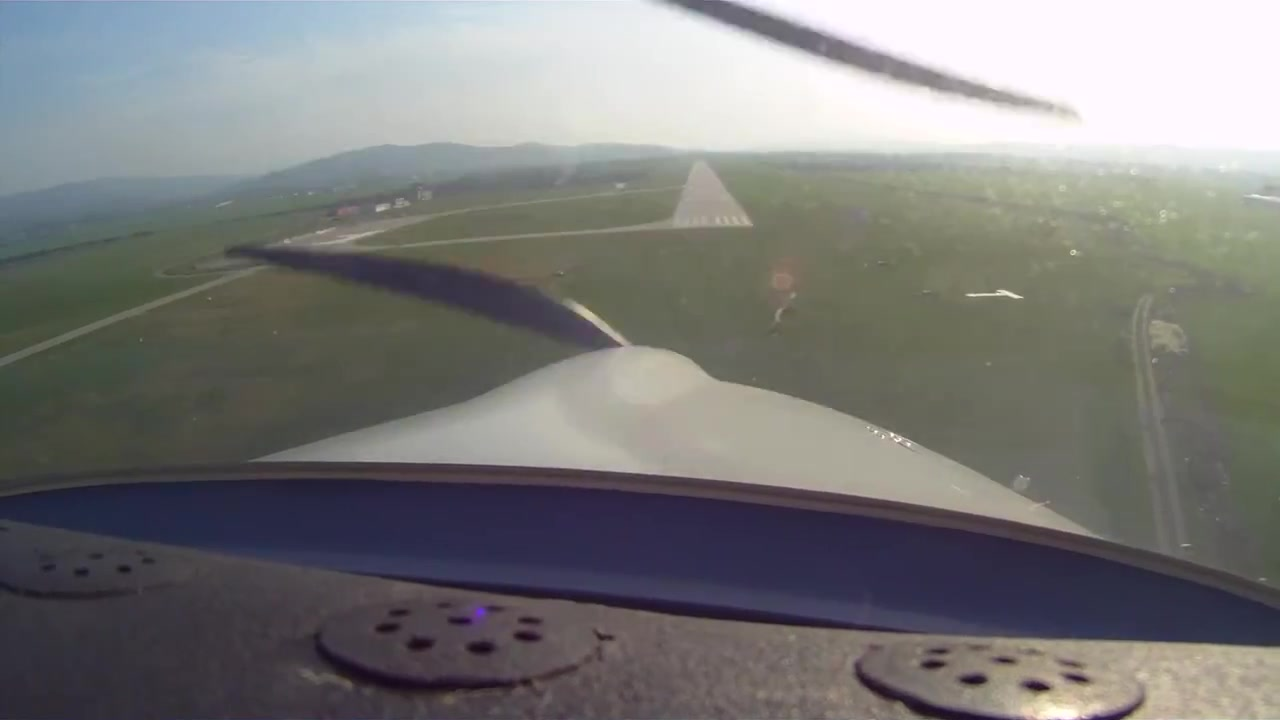entrance: (674, 216, 748, 230)
runway: (671, 156, 753, 232)
